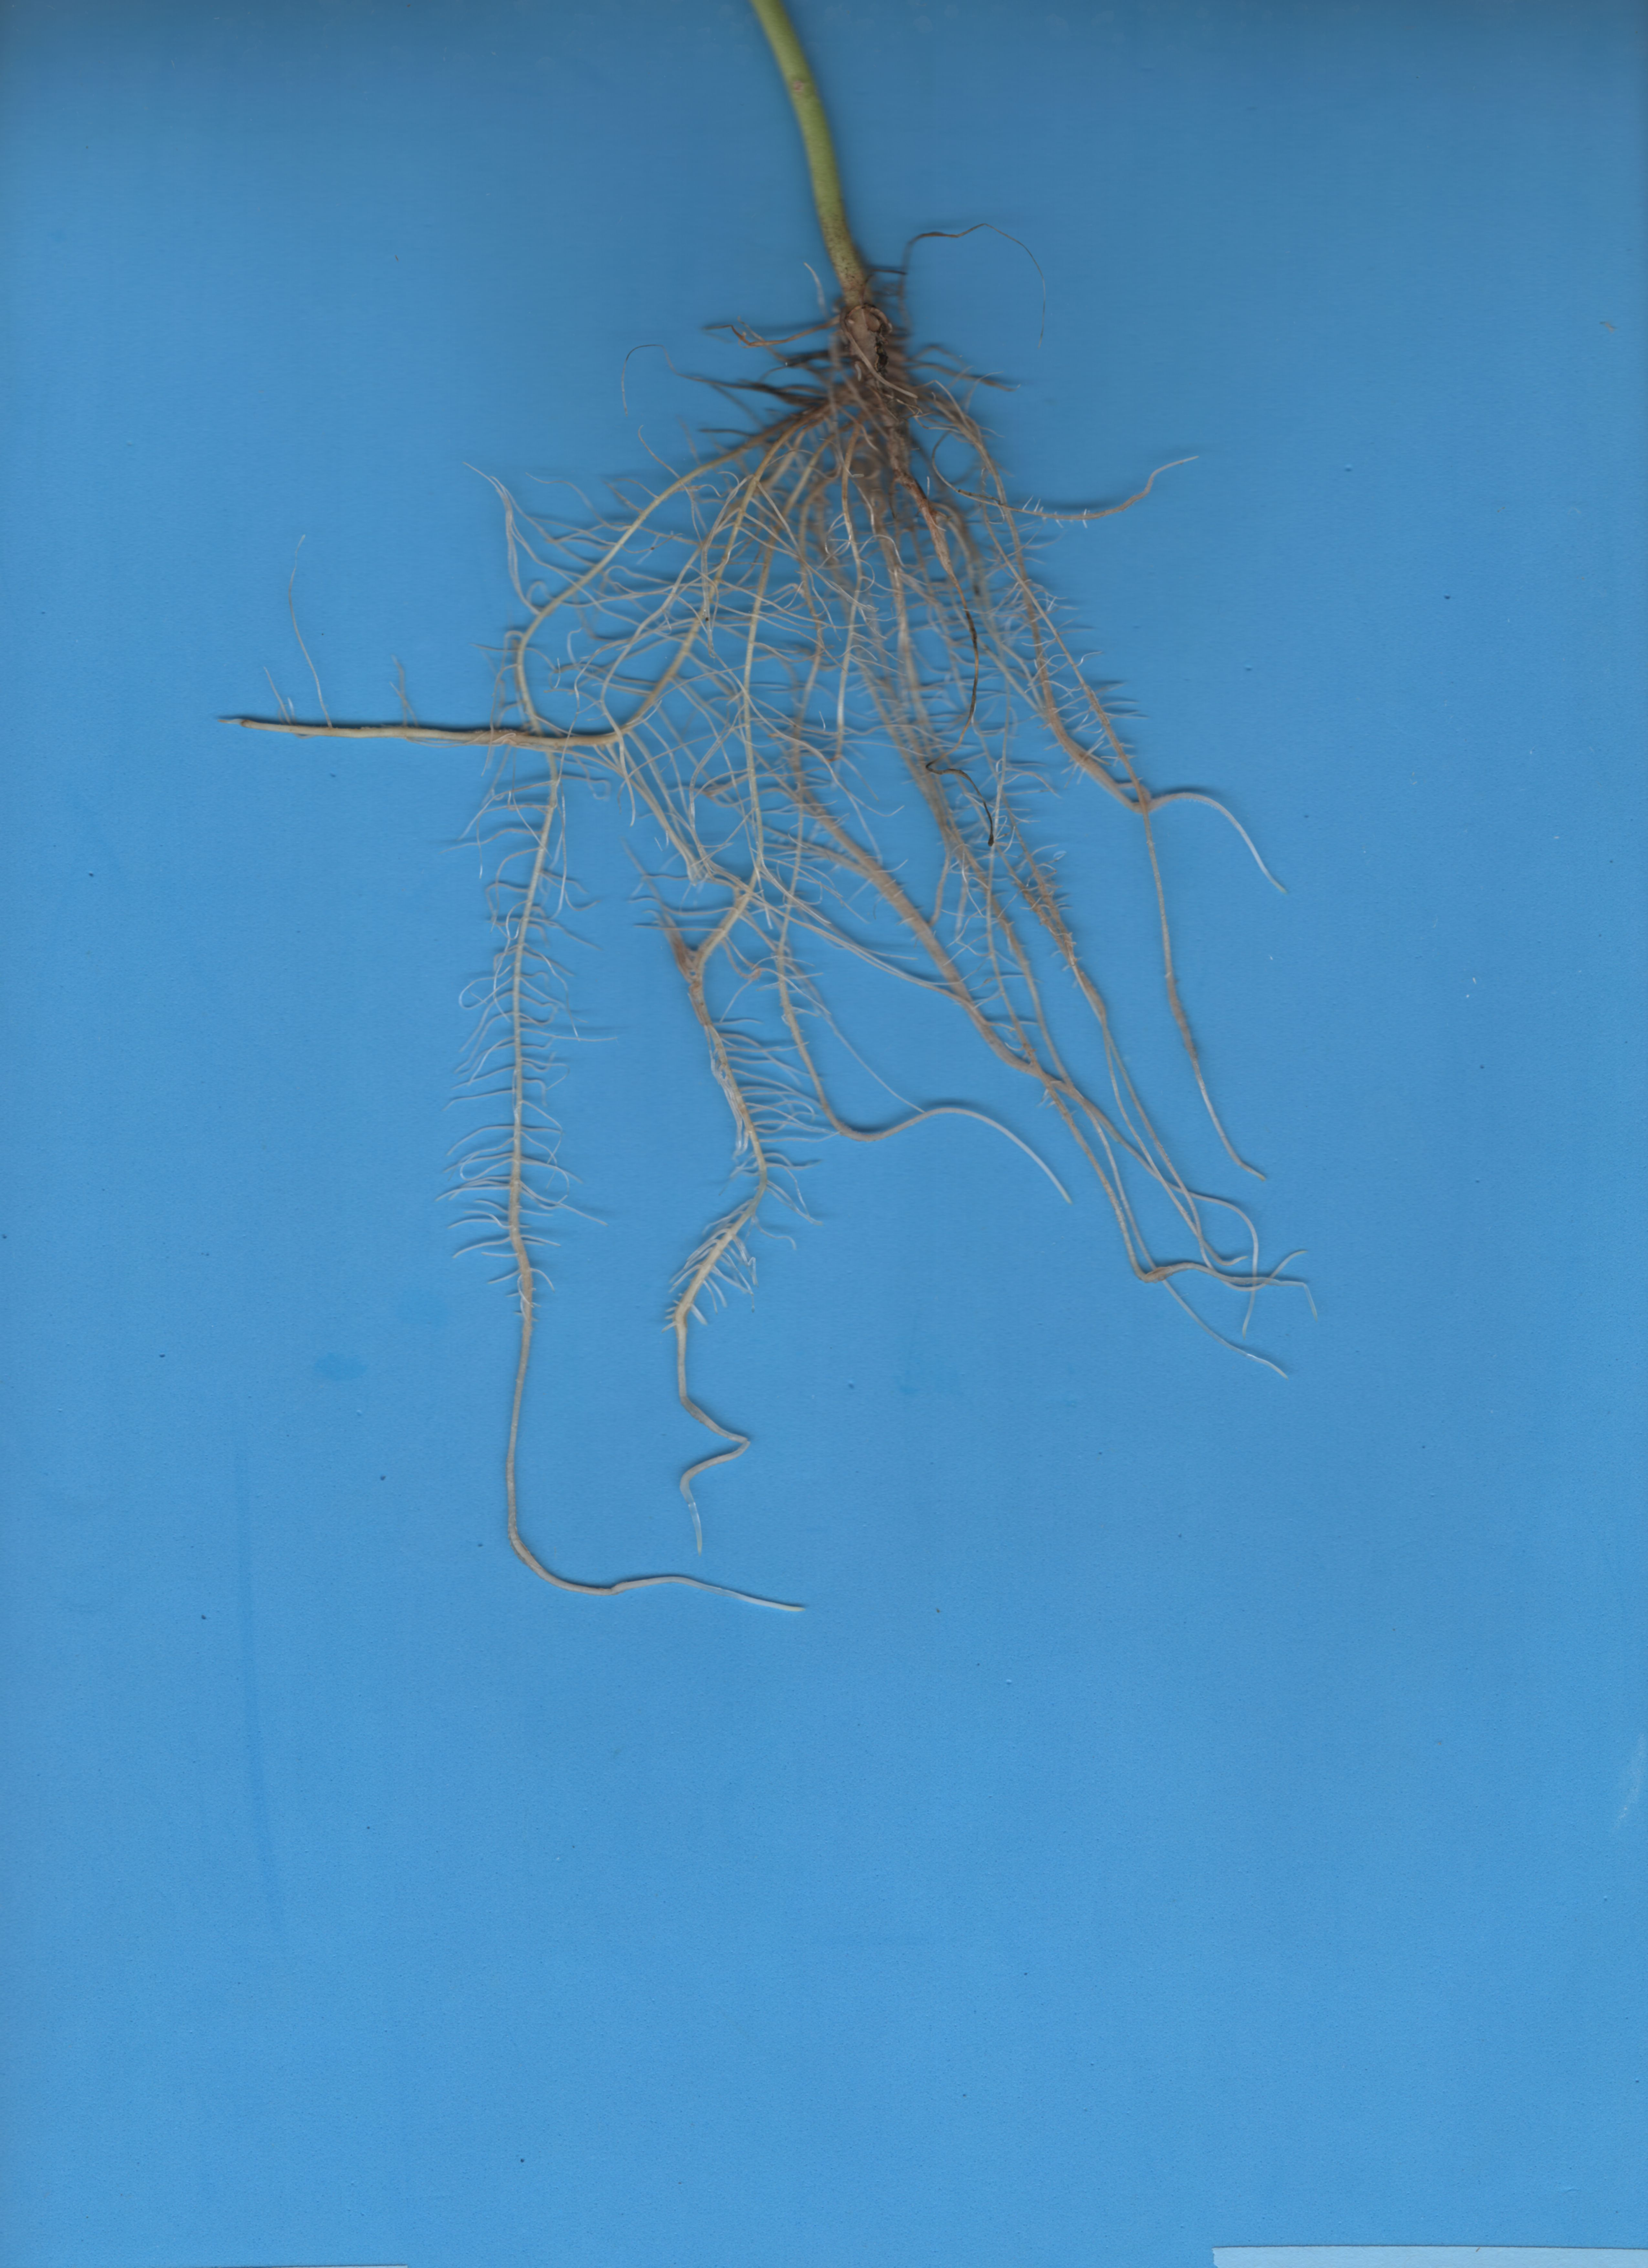CROWNGOOD: (727, 4, 924, 384)
ROOTDISEASE: (166, 248, 1402, 1631)
